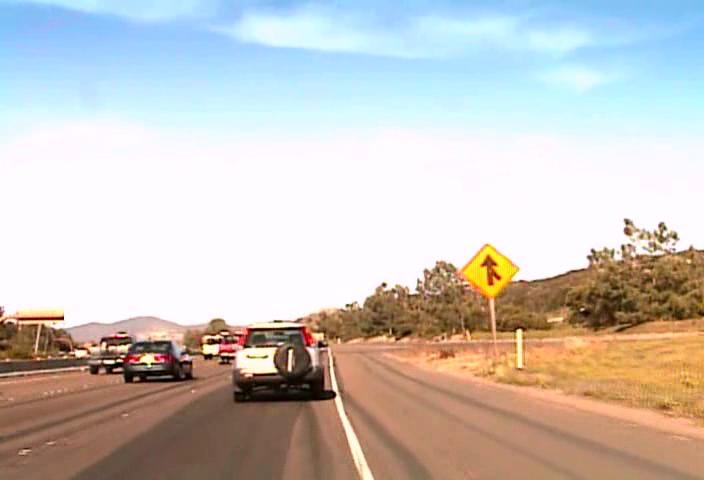merge: (458, 242, 519, 296)
